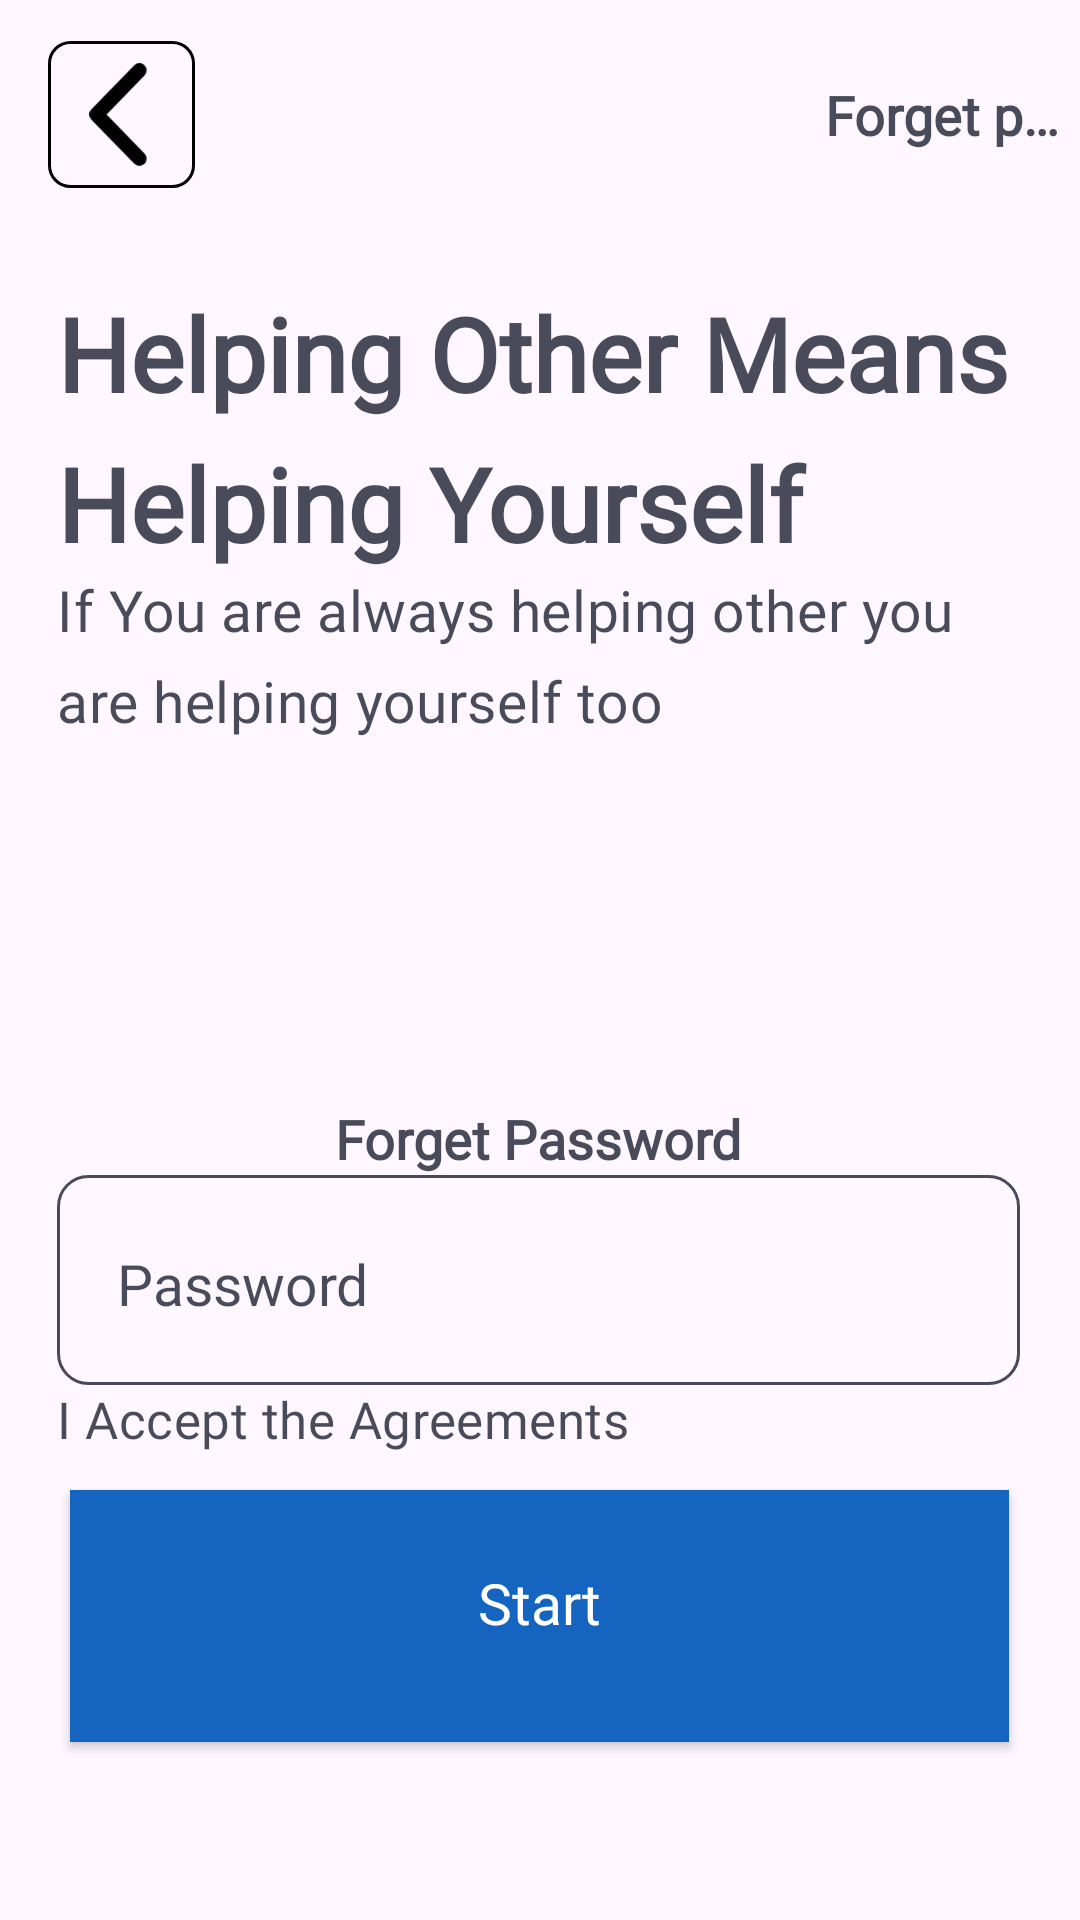

Locate icon controls on the screen. Image size 1080w x 1920h, boxes as (x1, y1, x2, y2).
arrow left: (48, 41, 195, 188)
